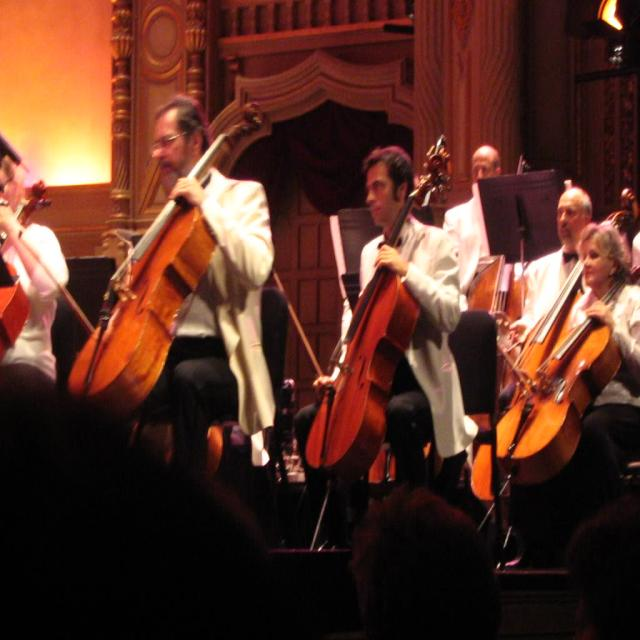cello: (65, 100, 274, 413), (301, 146, 452, 485), (494, 262, 640, 485), (0, 173, 49, 376)
